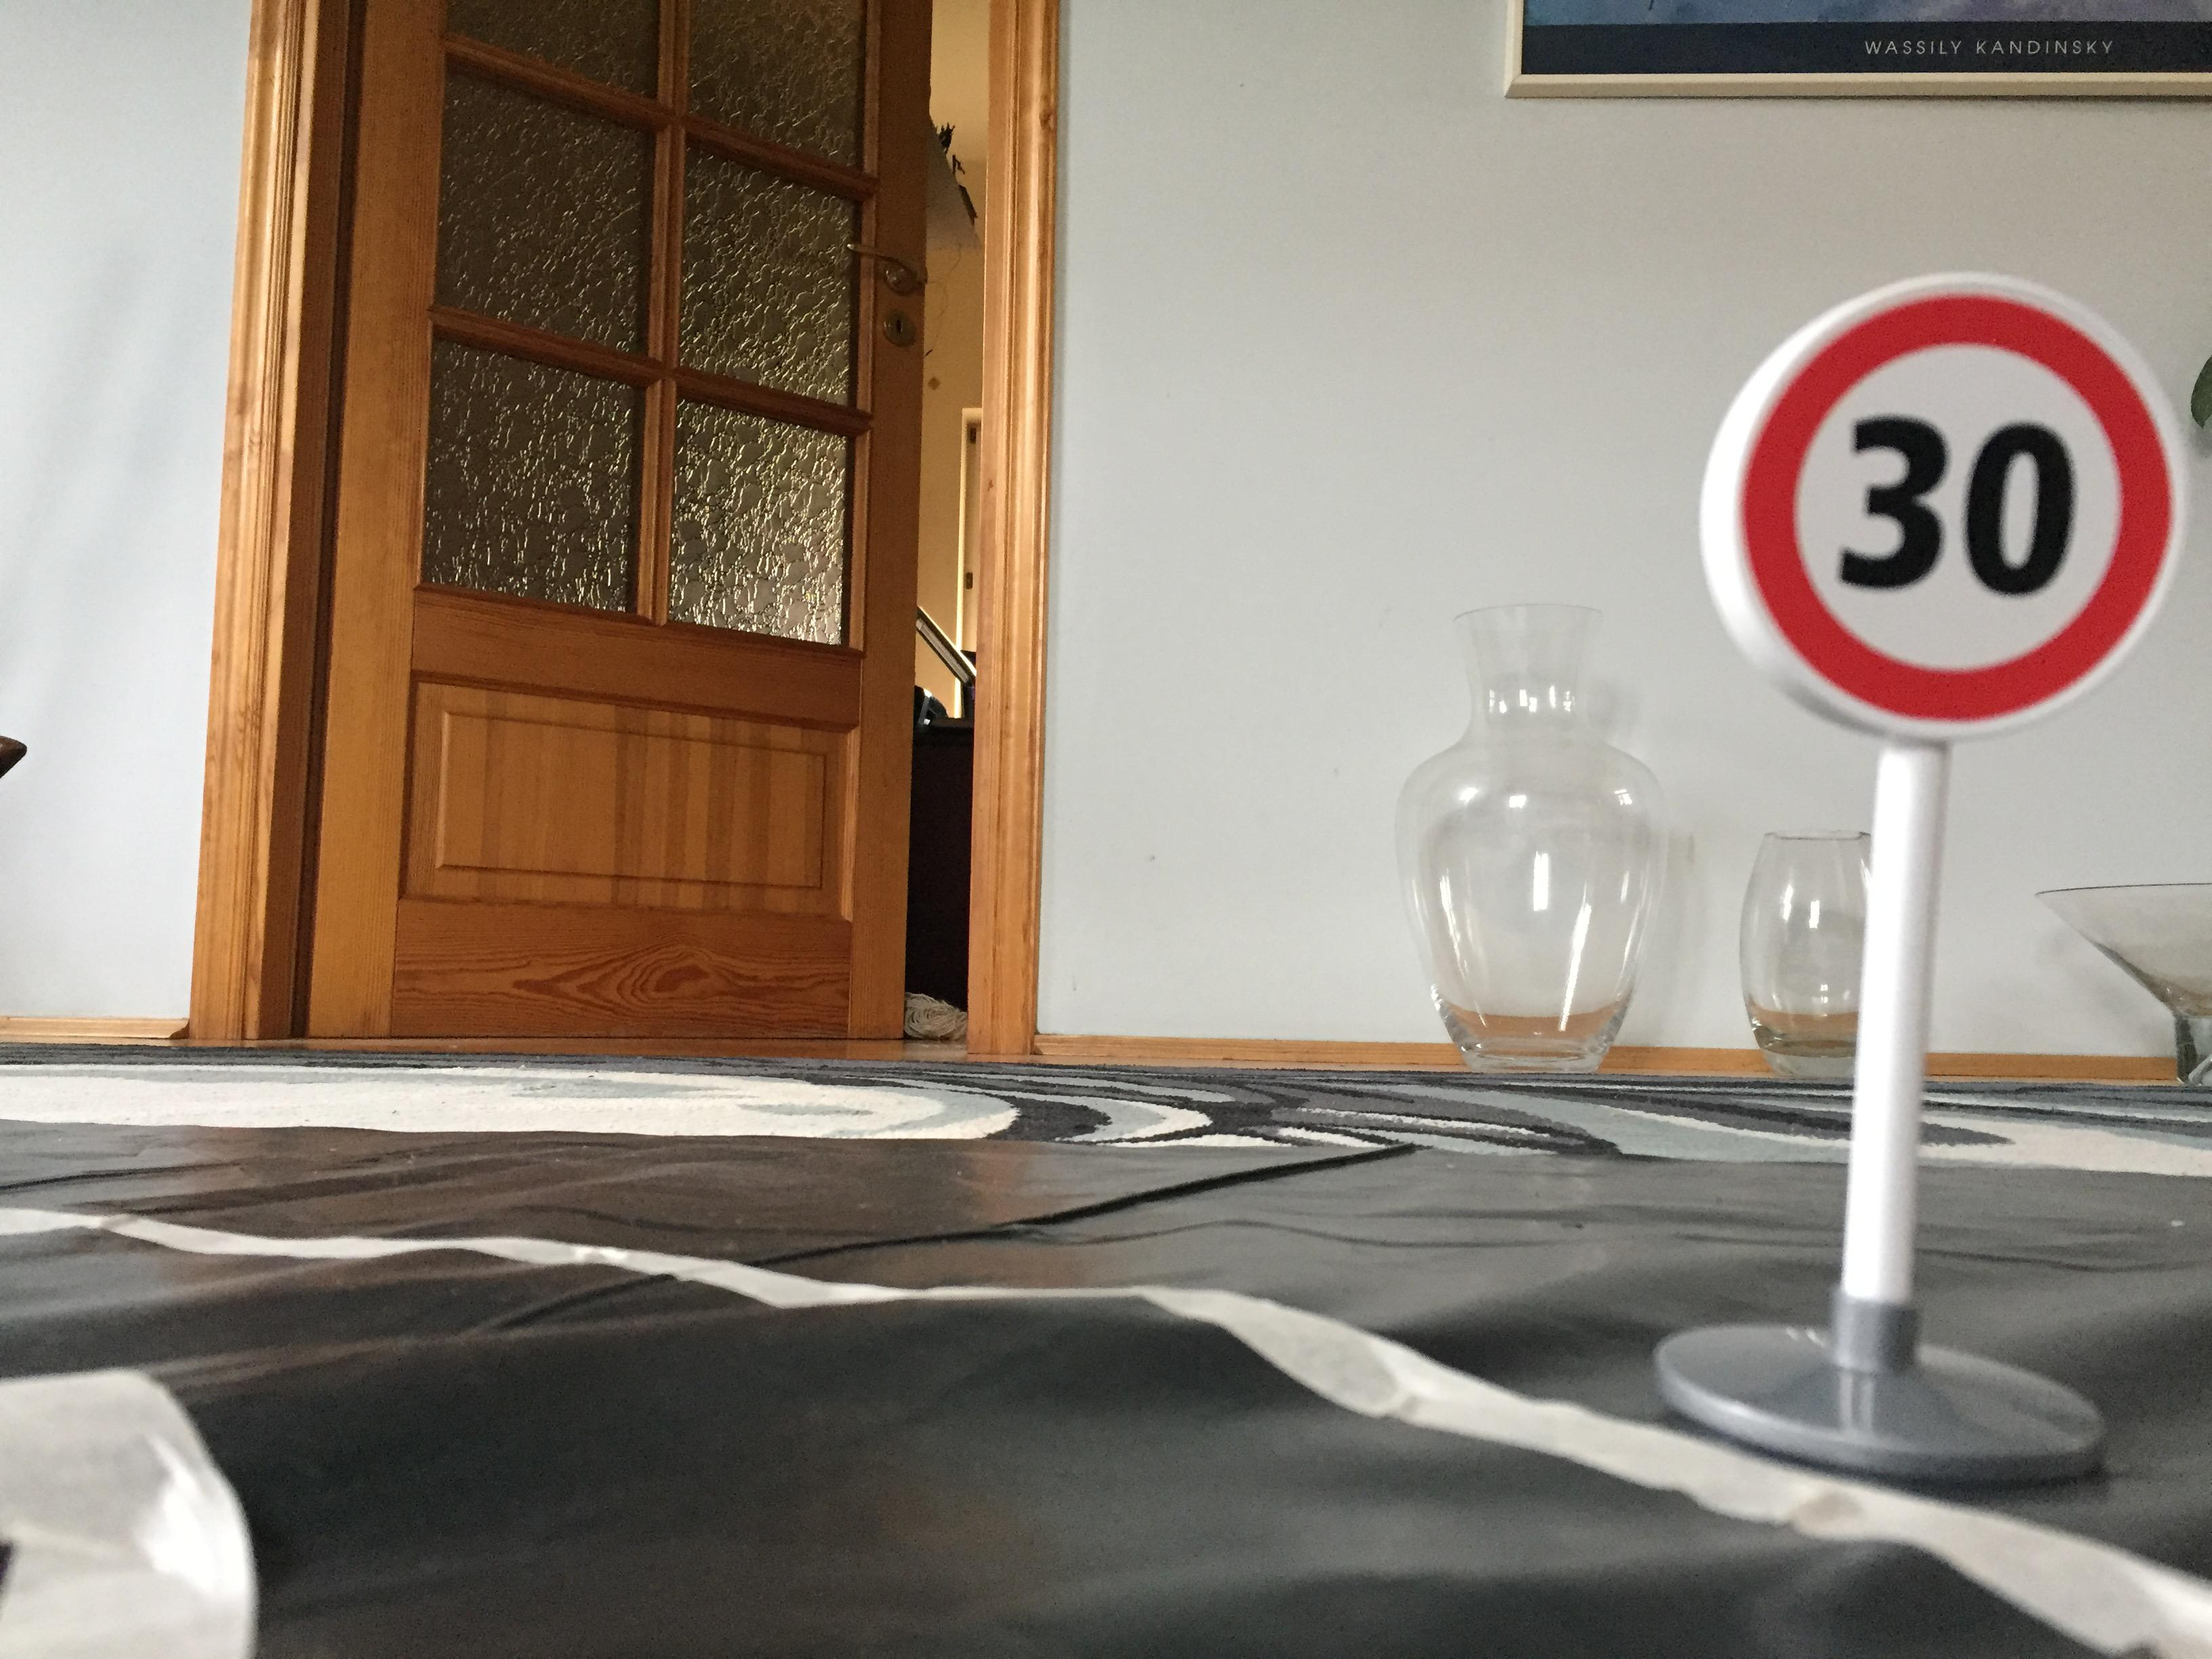speed: (1679, 244, 2203, 753)
